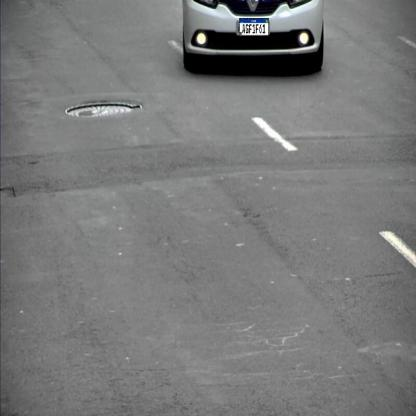PlacaM: (239, 18, 269, 36)
